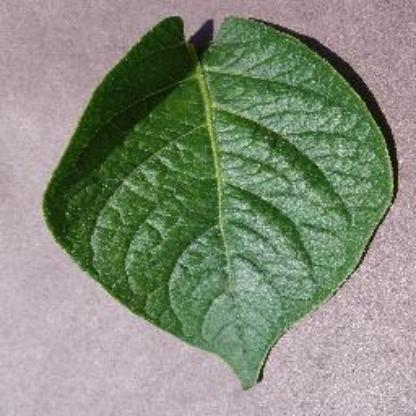Healthy-plant: (41, 10, 393, 394)
